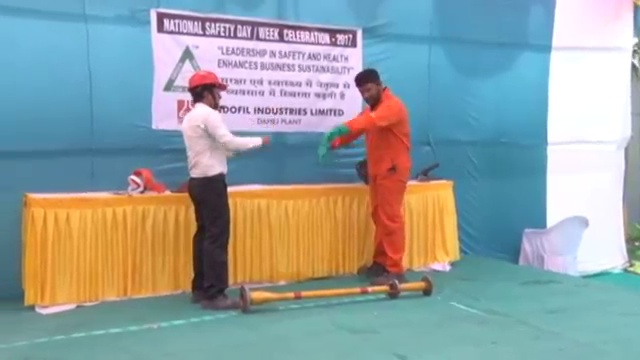helmet: (187, 70, 227, 92)
helmet_off: (352, 69, 385, 108)
helmet_on: (184, 69, 228, 109)
person: (176, 68, 272, 312), (323, 70, 417, 288)
